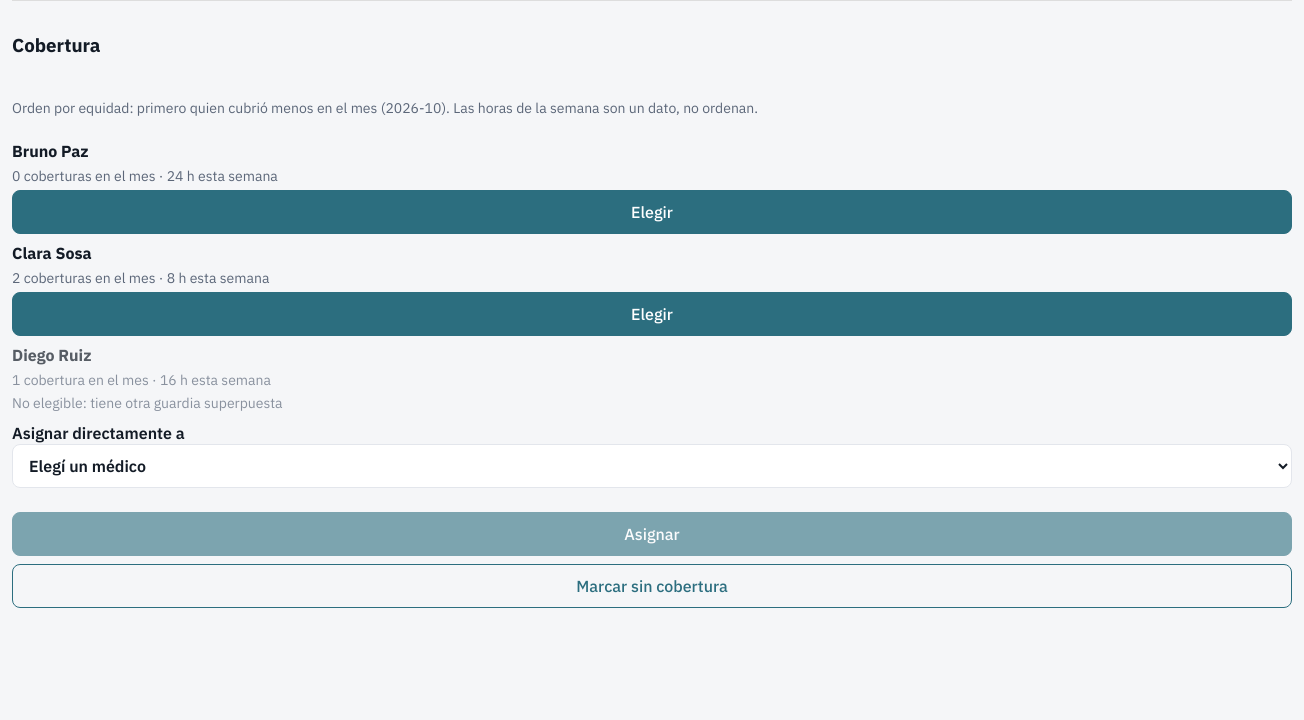
Test: PanelCobertura › marcar sin cobertura
Click the button "Marcar sin cobertura".
click(652, 586)  # box [12,564,1292,608]
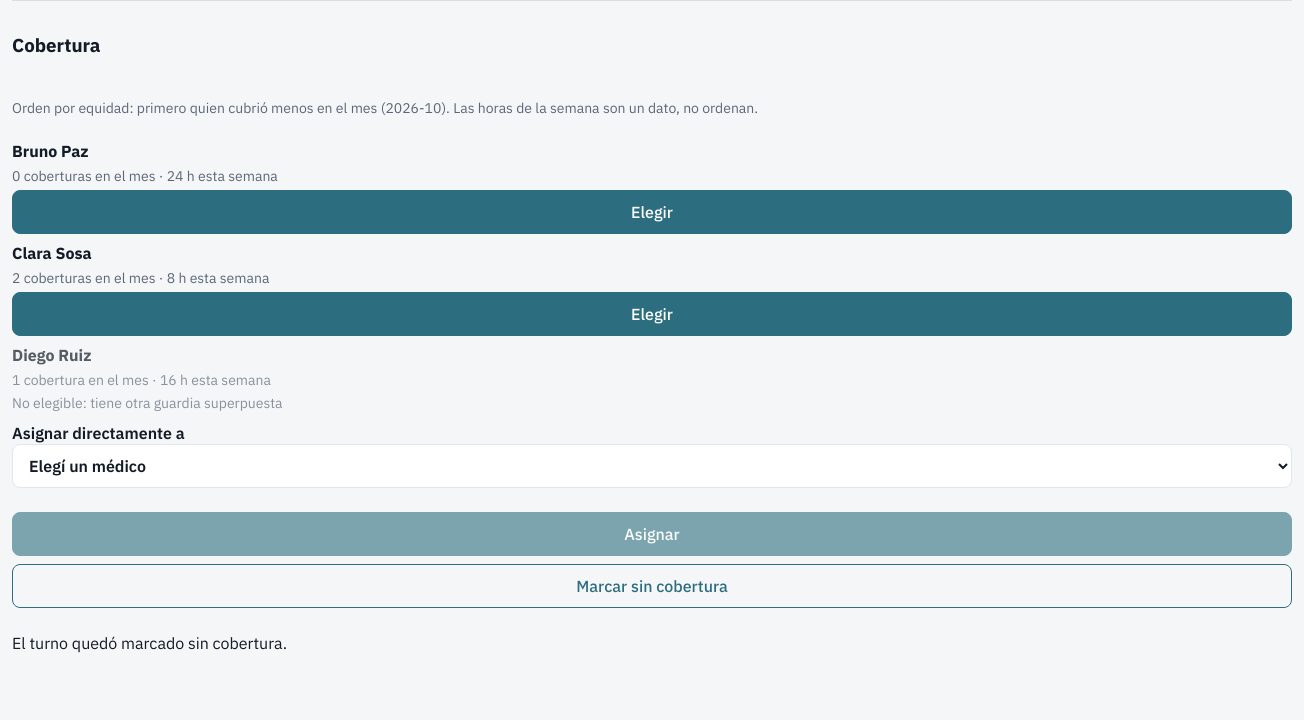
Expected: the message shows "sin cobertura", [12,633,287,653]
